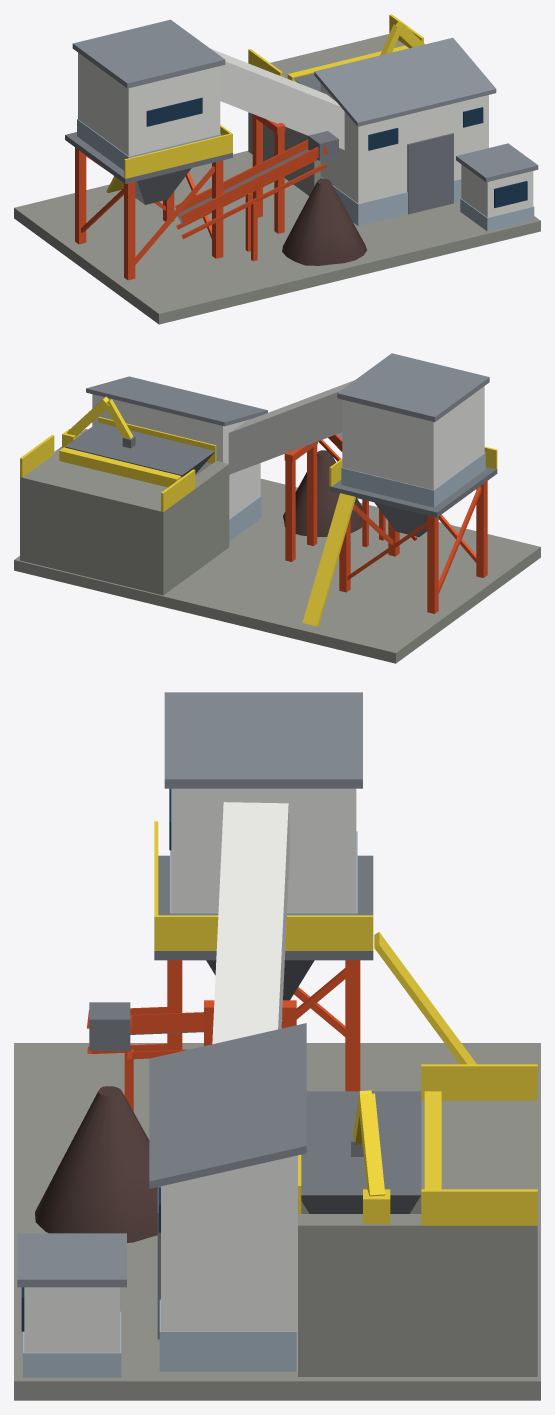
The model's file is mashup-crusher-mid-prebuilt.fbx.
3 renders of one model, top to bottom at view 1: azimuth 30°, elevation 25°; view 2: azimuth 150°, elevation 25°; view 3: azimuth 270°, elevation 25°, orthographic. The views are drawn at different scales.
Visible parts, largest first — view 1: a1022.Crusher; view 2: a1022.Crusher; view 3: a1022.Crusher.
Boxes of the visible parts, left/top/right/bottom form: a1022.Crusher: left=14, top=14, right=540, bottom=324; a1022.Crusher: left=14, top=353, right=540, bottom=663; a1022.Crusher: left=14, top=692, right=540, bottom=1400.
Size of the model in its own units: 23.4 by 12.2 by 15.4.
